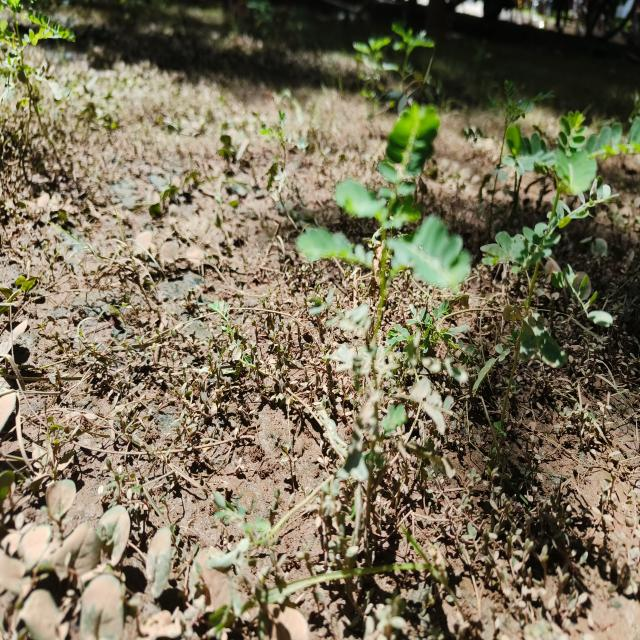weed: (294, 103, 633, 437)
